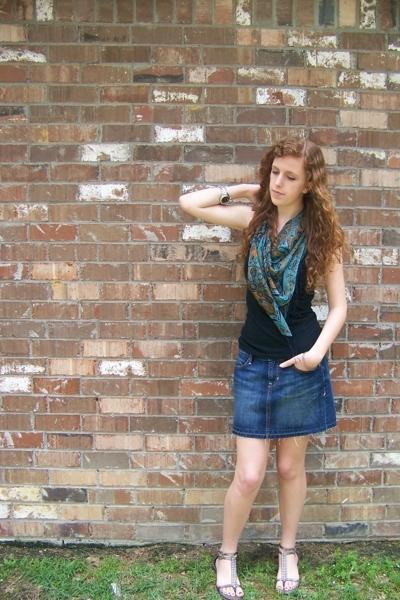shirt: (238, 260, 326, 367)
shoe: (216, 560, 298, 599)
skirt: (232, 351, 309, 438)
